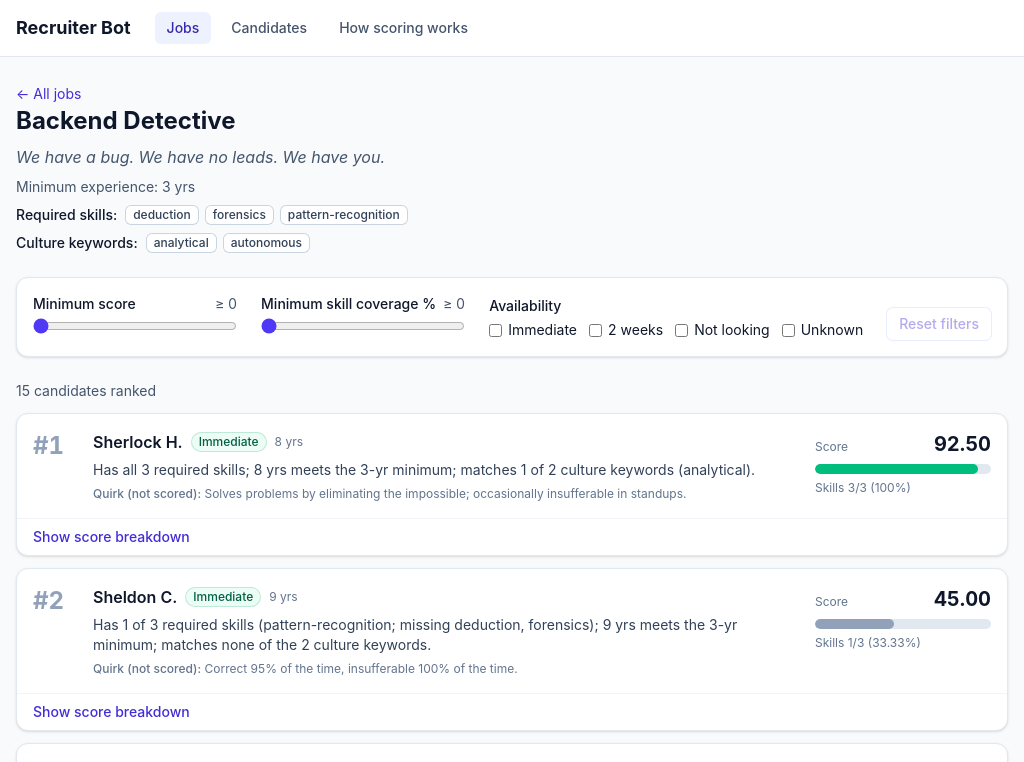
Test: job matches page › shows the score breakdown with the weights the API applied
Expected: the heading "Backend Detective" is shown, [16, 106, 236, 135]
What coordinates should you click on to do the following:
click the button "Show score breakdown" below "Sherlock H."
I would click on:
 (52, 536)
Its box is [33, 519, 991, 555].
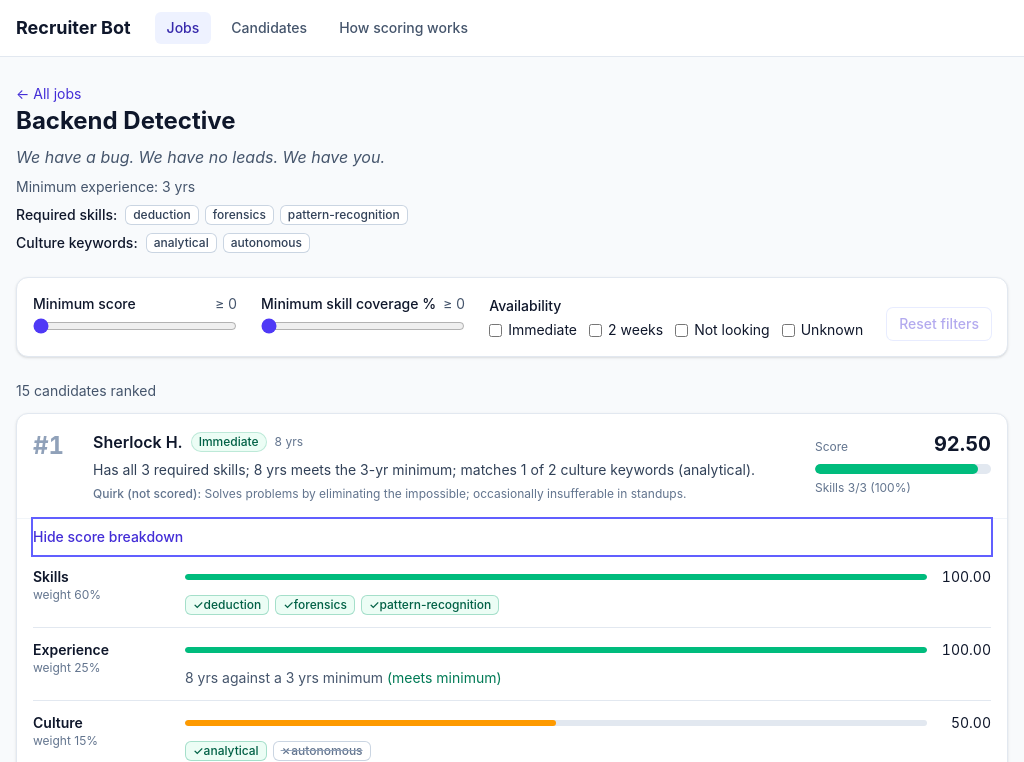
Expected: the text "weight 60%" is shown, [33, 587, 101, 602]
Expected: the text "weight 25%" is shown, [33, 660, 100, 675]
Expected: the text "weight 15%" is shown, [33, 733, 98, 748]
